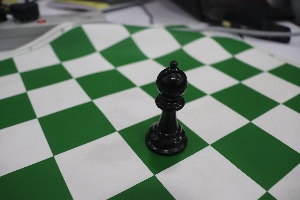black_bishop: (142, 47, 194, 162)
